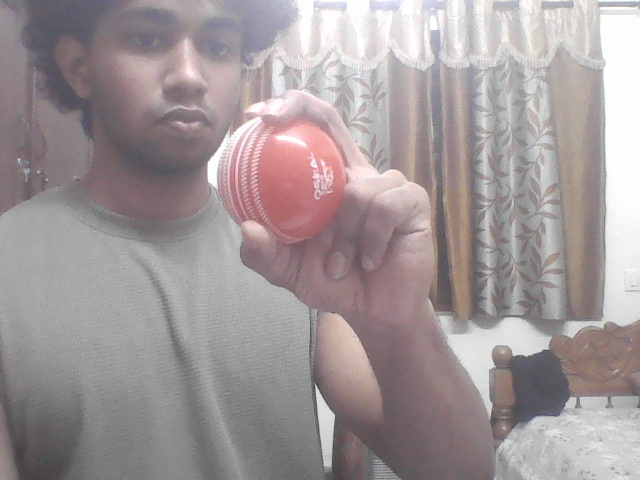cricket_ball: (212, 115, 346, 243)
